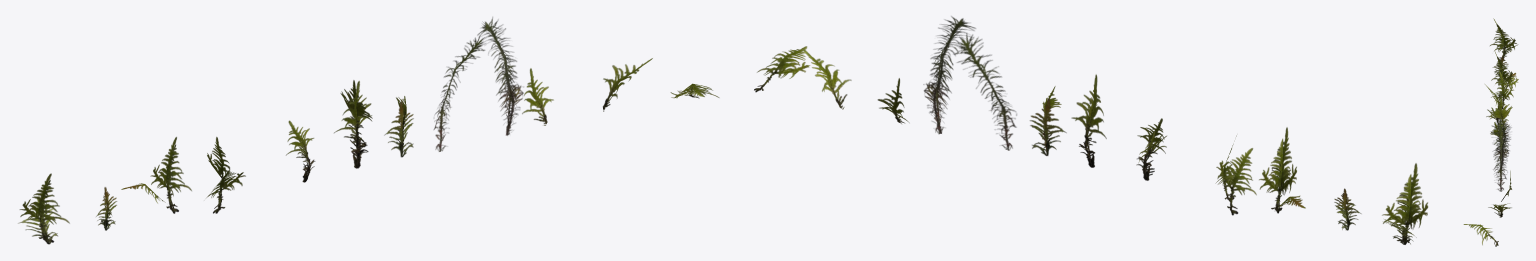
Rendered from moss.glb.
3 views of the same model, side by side, from view 1: azimuth 30°, elevation 25°; view 2: azimuth 150°, elevation 25°; view 3: azimuth 270°, elevation 25° (orthographic). The views are drawn at different scales.
Parts seen in each view (by area): view 1: moss_01_tall_b_LOD0, moss_01_a_LOD0, moss_01_f_LOD0, moss_01_c_LOD0, moss_01_tall_a_LOD0, moss_01_d_LOD0, moss_01_g_LOD0, moss_01_h_LOD0, moss_01_e_LOD0, moss_01_i_LOD0, moss_01_b_LOD0; view 2: moss_01_tall_b_LOD0, moss_01_tall_a_LOD0, moss_01_a_LOD0, moss_01_c_LOD0, moss_01_d_LOD0, moss_01_f_LOD0, moss_01_g_LOD0, moss_01_j_LOD0, moss_01_e_LOD0, moss_01_i_LOD0, moss_01_b_LOD0, moss_01_h_LOD0; view 3: moss_01_tall_b_LOD0, moss_01_a_LOD0, moss_01_c_LOD0, moss_01_d_LOD0, moss_01_f_LOD0, moss_01_tall_a_LOD0, moss_01_j_LOD0, moss_01_i_LOD0, moss_01_g_LOD0, moss_01_e_LOD0, moss_01_b_LOD0, moss_01_h_LOD0.
Part boxes in pixels (bbox=[...]): moss_01_tall_b_LOD0: bbox=[477, 17, 523, 135]; moss_01_a_LOD0: bbox=[18, 173, 69, 244]; moss_01_f_LOD0: bbox=[334, 80, 372, 168]; moss_01_c_LOD0: bbox=[121, 137, 191, 213]; moss_01_tall_a_LOD0: bbox=[433, 36, 485, 151]; moss_01_d_LOD0: bbox=[206, 137, 245, 213]; moss_01_g_LOD0: bbox=[384, 96, 413, 157]; moss_01_h_LOD0: bbox=[522, 68, 553, 125]; moss_01_e_LOD0: bbox=[286, 120, 315, 182]; moss_01_i_LOD0: bbox=[603, 58, 652, 111]; moss_01_b_LOD0: bbox=[96, 187, 116, 230]; moss_01_tall_b_LOD0: bbox=[923, 16, 975, 134]; moss_01_tall_a_LOD0: bbox=[954, 33, 1016, 150]; moss_01_a_LOD0: bbox=[1382, 163, 1427, 244]; moss_01_c_LOD0: bbox=[1259, 127, 1305, 213]; moss_01_d_LOD0: bbox=[1215, 135, 1256, 215]; moss_01_f_LOD0: bbox=[1071, 74, 1106, 167]; moss_01_g_LOD0: bbox=[1030, 86, 1066, 155]; moss_01_j_LOD0: bbox=[754, 46, 809, 92]; moss_01_e_LOD0: bbox=[1136, 118, 1166, 180]; moss_01_i_LOD0: bbox=[801, 48, 851, 109]; moss_01_b_LOD0: bbox=[1334, 188, 1361, 230]; moss_01_h_LOD0: bbox=[877, 78, 909, 123]; moss_01_tall_b_LOD0: bbox=[1491, 118, 1510, 191]; moss_01_a_LOD0: bbox=[1490, 18, 1518, 60]; moss_01_c_LOD0: bbox=[1491, 51, 1518, 96]; moss_01_d_LOD0: bbox=[1485, 70, 1513, 109]; moss_01_f_LOD0: bbox=[1489, 97, 1512, 139]; moss_01_tall_a_LOD0: bbox=[1494, 125, 1511, 168]; moss_01_j_LOD0: bbox=[1463, 224, 1498, 246]; moss_01_i_LOD0: bbox=[1488, 203, 1511, 217]; moss_01_g_LOD0: bbox=[1490, 122, 1506, 159]; moss_01_e_LOD0: bbox=[1486, 93, 1508, 129]; moss_01_b_LOD0: bbox=[1492, 55, 1508, 75]; moss_01_h_LOD0: bbox=[1501, 171, 1511, 201].
Size of the model in its own units: 0.2153 by 0.0404 by 0.0294.
1 material, 1 textured.
